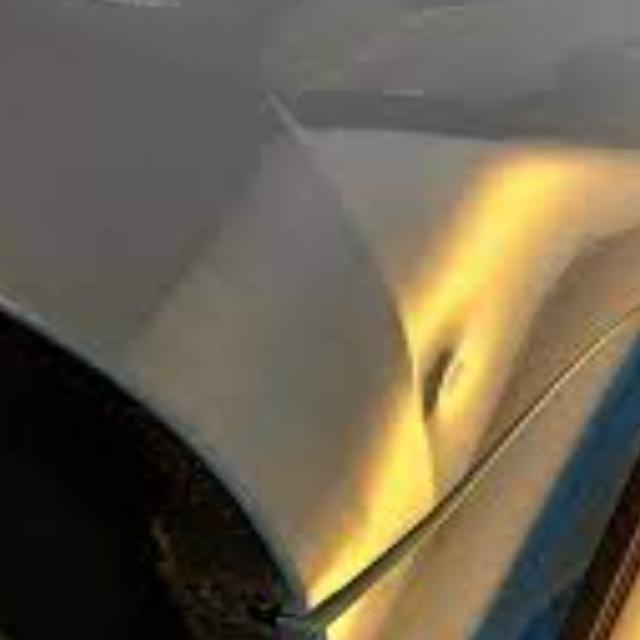dents: (378, 327, 558, 446)
